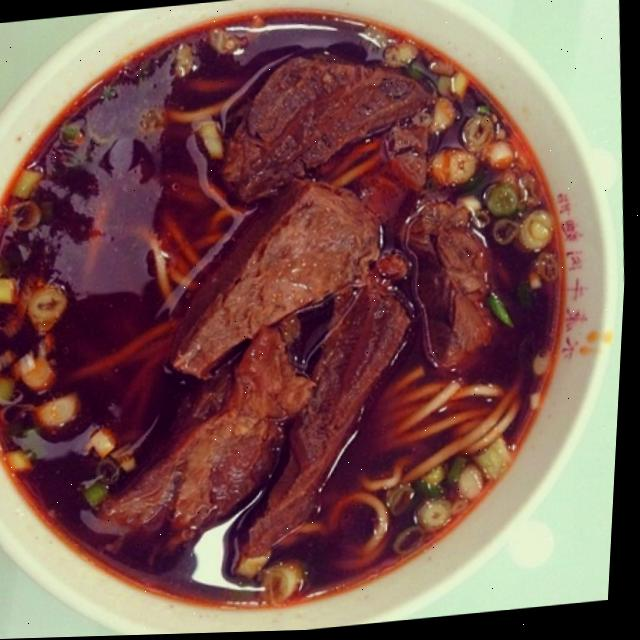面条主食: (0, 6, 584, 628)
